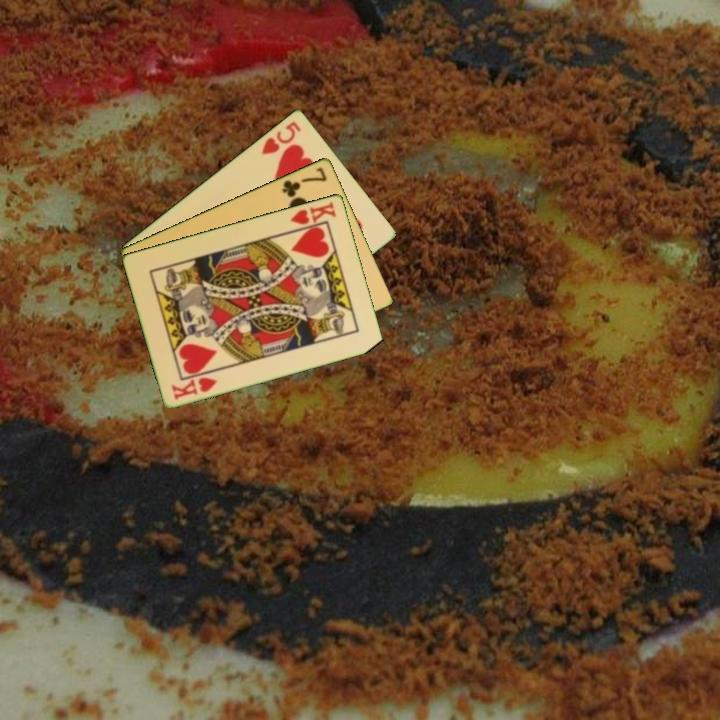5h: (258, 117, 304, 157)
7c: (279, 163, 330, 200)
Kh: (286, 198, 339, 234), (168, 373, 220, 402)
